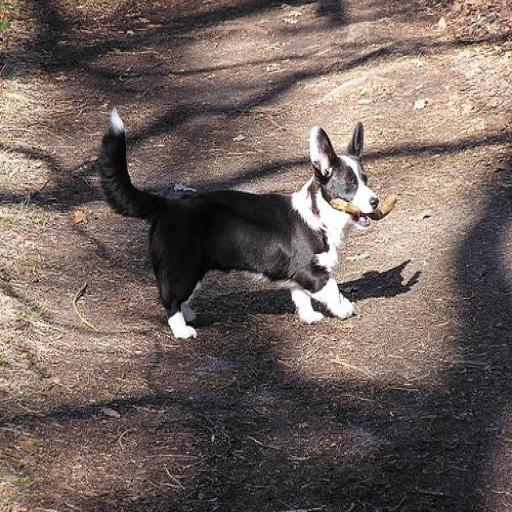dog_face: (304, 119, 382, 225)
